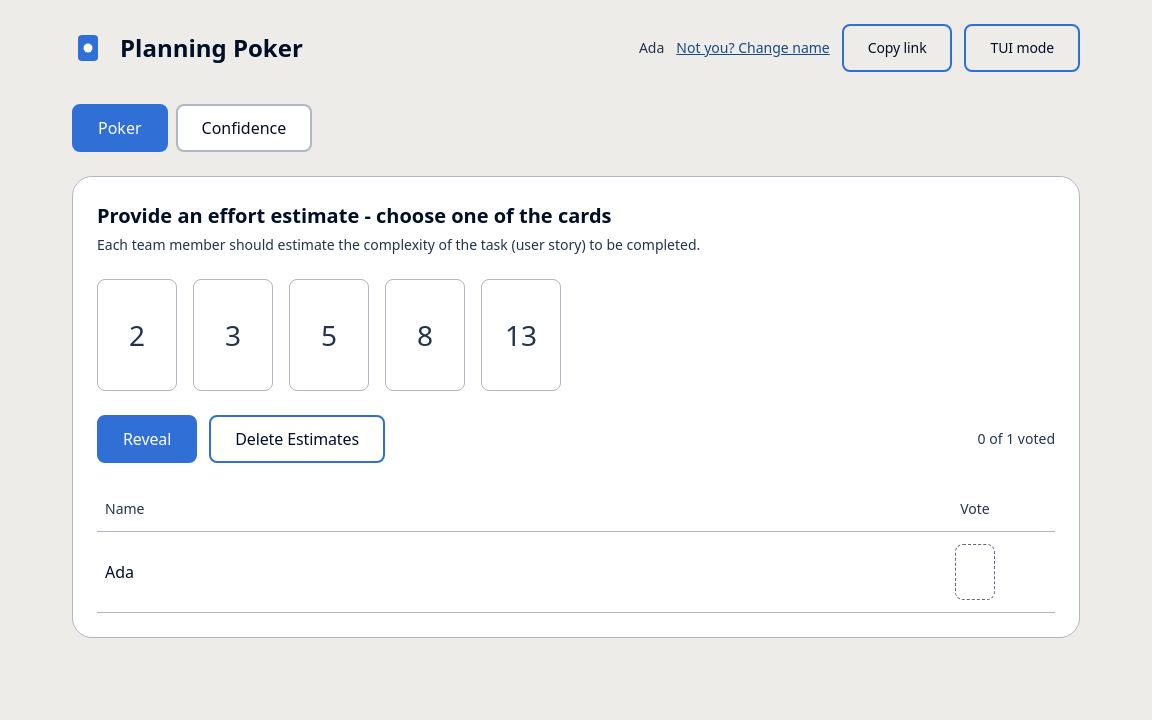
Test: copy link › falls back to document.execCommand("copy") when navigator.clipboard is unavailable
Click the button "Copy link" at x=897, y=48, box [842,24,952,72]
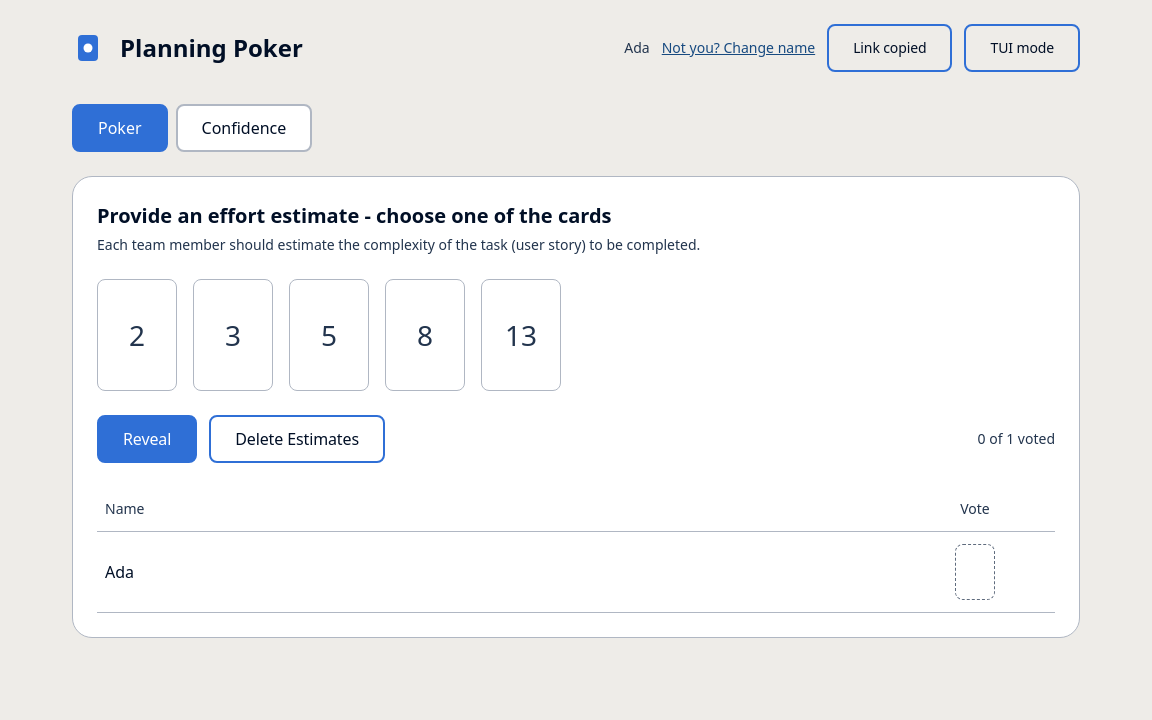
Now the button "Link copied" is shown, box [827,24,952,72]
